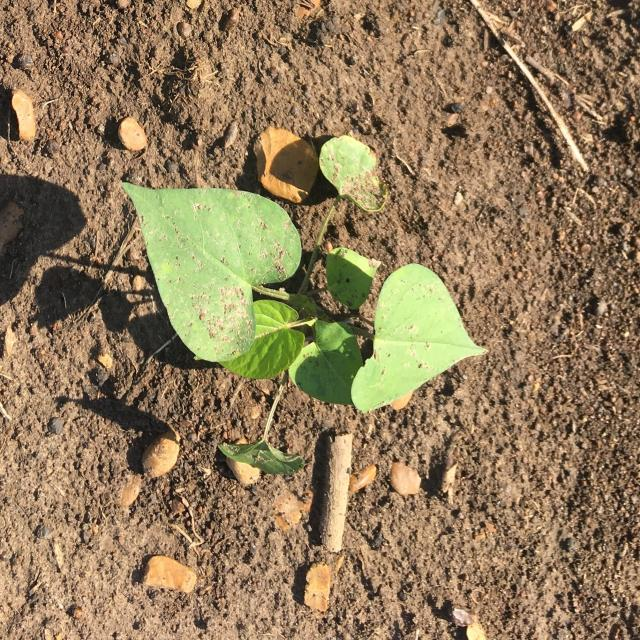MorningGlory: (121, 135, 487, 475)
